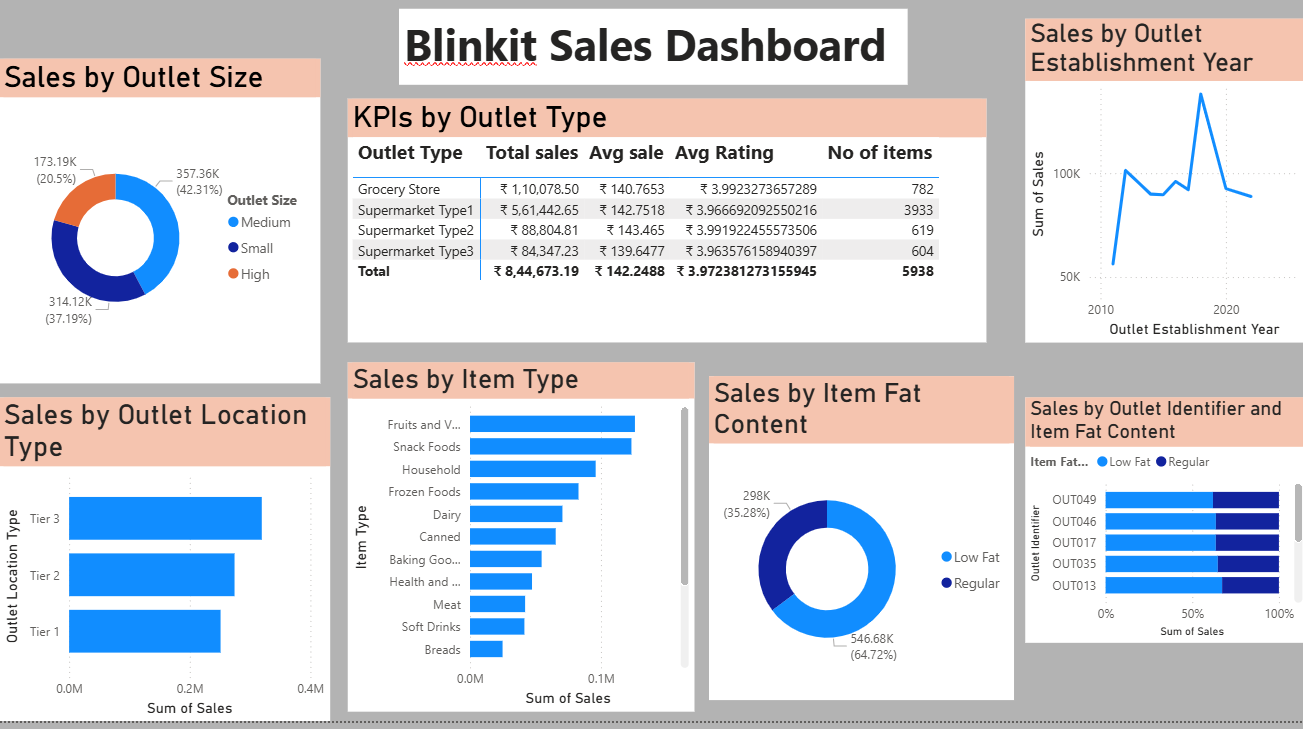

What the dashboard file says about the page in this screenshot:
{"tool":"powerbi","page":{"name":"Page 1","canvas":[1280,720],"ordinal":0},"visuals":[{"type":"donutChart","title":" Sales by Outlet Size","fields":{"Category":["blinkit grocery.Outlet Size"],"Y":["Sum(blinkit grocery.Sales)"]},"box":[0,72.1,314.3,317.9],"z":0},{"type":"barChart","title":"Sales by Outlet Location Type","fields":{"Category":["blinkit grocery.Outlet Location Type"],"Y":["Sum(blinkit grocery.Sales)"]},"box":[0,403.4,323.8,317],"z":1000},{"type":"barChart","title":"Sales by Item Type","fields":{"Category":["blinkit grocery.Item Type"],"Y":["Sum(blinkit grocery.Sales)"]},"box":[341.7,369.1,338.9,341.7],"z":2000},{"type":"pivotTable","title":"KPIs by Outlet Type","fields":{"Rows":["blinkit grocery.Outlet Type"],"Values":["Blinkit_dataset.Total sales","Blinkit_dataset.Avg sale","Blinkit_dataset.Avg Rating","Blinkit_dataset.No of items"]},"box":[360.9,111.1,624.4,238.8],"z":3000},{"type":"donutChart","title":"Sales by Item Fat Content","fields":{"Category":["blinkit grocery.Item Fat Content"],"Y":["Sum(blinkit grocery.Sales)"]},"box":[687.5,403.4,297.8,317],"z":4000},{"type":"lineChart","title":"Sales by Outlet Establishment Year","fields":{"Category":["blinkit grocery.Outlet Establishment Year"],"Y":["Sum(blinkit grocery.Sales)"]},"box":[1004.5,32.9,275.8,317],"z":5000},{"type":"hundredPercentStackedBarChart","title":"Sales by Outlet Identifier and Item Fat Content","fields":{"Series":["blinkit grocery.Item Fat Content"],"Y":["Sum(blinkit grocery.Sales)"],"Category":["blinkit grocery.Outlet Identifier"]},"box":[1003.9,420.7,276.4,239.7],"z":6000},{"type":"textbox","box":[432.2,13.7,496.7,74.1],"z":7000}]}

Visuals, with their boxes in screenshot pixels (x1, y1, x2, y2), scaled from the page's 1280x720 canvas onto the 1303x729 screenshot:
" Sales by Outlet Size" donutChart: (left=0, top=73, right=320, bottom=395)
"Sales by Outlet Location Type" barChart: (left=0, top=408, right=330, bottom=728)
"Sales by Item Type" barChart: (left=348, top=374, right=693, bottom=720)
"KPIs by Outlet Type" pivotTable: (left=367, top=112, right=1003, bottom=354)
"Sales by Item Fat Content" donutChart: (left=700, top=408, right=1003, bottom=728)
"Sales by Outlet Establishment Year" lineChart: (left=1023, top=33, right=1302, bottom=354)
"Sales by Outlet Identifier and Item Fat Content" hundredPercentStackedBarChart: (left=1022, top=426, right=1302, bottom=669)
textbox: (left=440, top=14, right=946, bottom=89)
